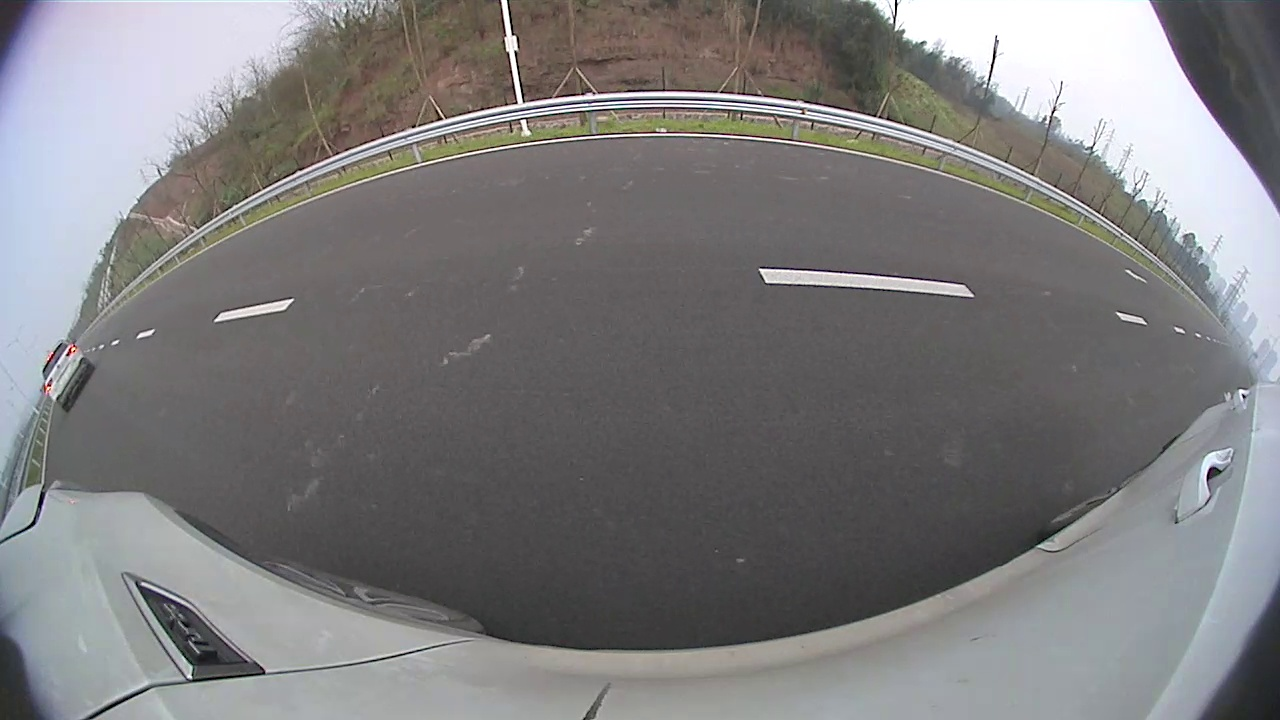car: (41, 340, 95, 412)
